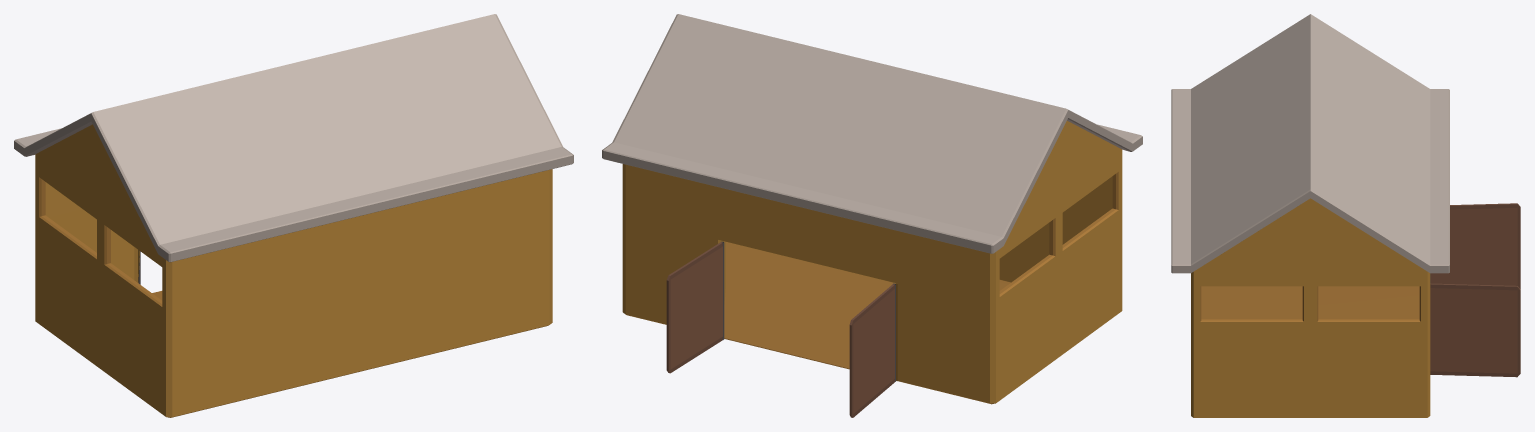
The model's file is sheepfold.fbx.
3 views of the same model, side by side, from view 1: azimuth 30°, elevation 25°; view 2: azimuth 150°, elevation 25°; view 3: azimuth 270°, elevation 25° (orthographic). The views are drawn at different scales.
Parts seen in each view (by area): view 1: Cube.014; view 2: Cube.014; view 3: Cube.014.
Boxes of the visible parts, x1=… form: Cube.014: x1=14, y1=14, x2=573, y2=417; Cube.014: x1=602, y1=14, x2=1142, y2=417; Cube.014: x1=1171, y1=14, x2=1520, y2=417.
Bounding box in the file's own units: 526 × 324 × 439.
